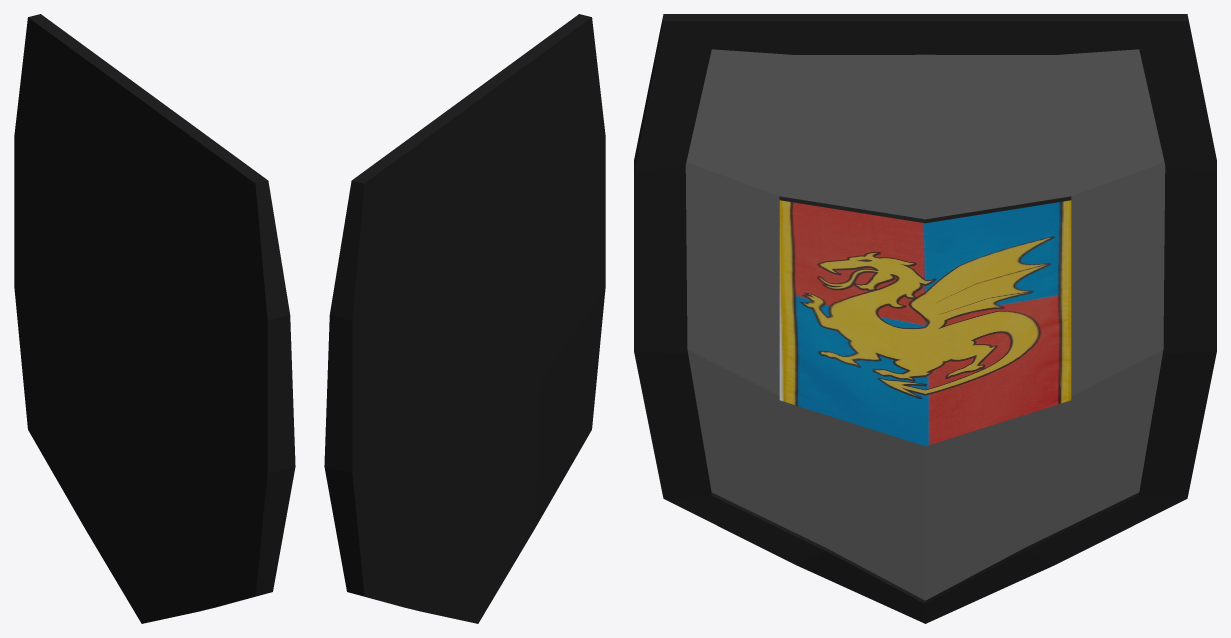
File: Shield.glb
3 views of the same model, side by side, from view 1: azimuth 30°, elevation 25°; view 2: azimuth 150°, elevation 25°; view 3: azimuth 270°, elevation 25° (orthographic). The views are drawn at different scales.
Visible parts, largest first — view 1: Cube; view 2: Cube; view 3: Cube.
Part boxes in pixels (x1,y1,x2,y2): Cube: (14, 14, 295, 623); Cube: (324, 14, 605, 623); Cube: (634, 14, 1216, 623).
Bounding box in the file's own units: 0.1431 × 2.54 × 2.22.
Materials: 3 (1 with a texture image).
